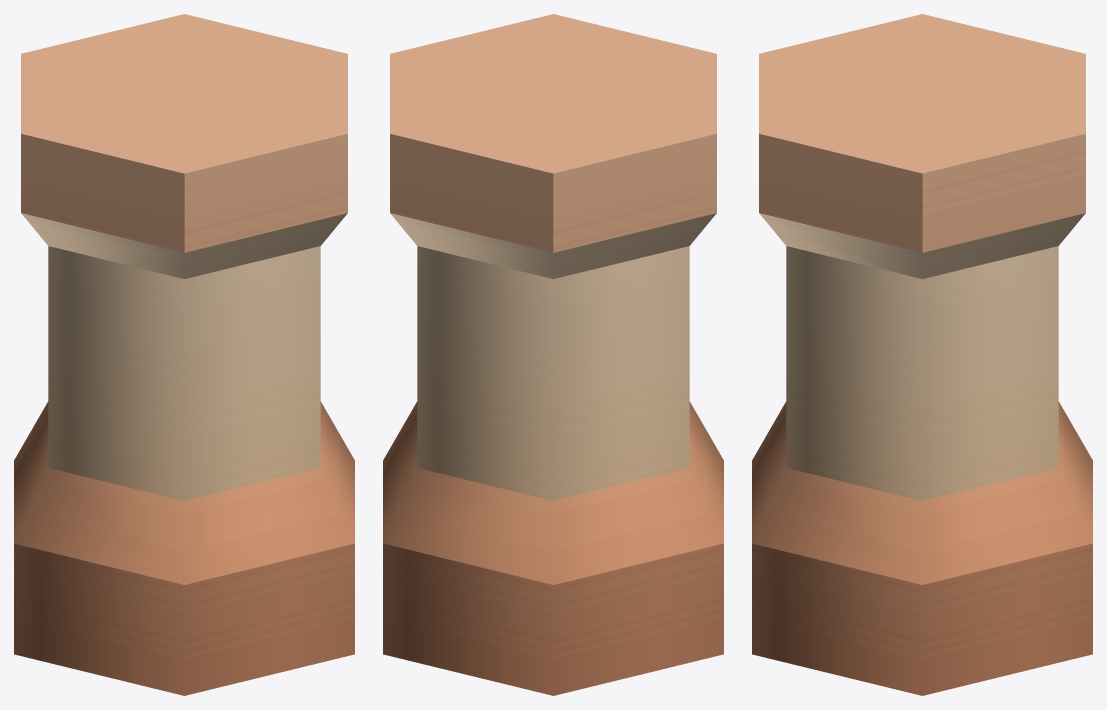
The model's file is tower-hexagon-base.glb.
The picture shows the model from 3 angles, left to right: view 1: azimuth 30°, elevation 25°; view 2: azimuth 150°, elevation 25°; view 3: azimuth 270°, elevation 25°; orthographic projection.
Visible parts, largest first — view 1: tower-hexagon-base; view 2: tower-hexagon-base; view 3: tower-hexagon-base.
Boxes of the visible parts, left/top/right/bottom form: tower-hexagon-base: left=14, top=14, right=354, bottom=695; tower-hexagon-base: left=383, top=14, right=723, bottom=695; tower-hexagon-base: left=752, top=14, right=1092, bottom=695.
Size of the model in its own units: 0.8999 by 1.31 by 0.7794.
Materials: 1 (1 with a texture image).
